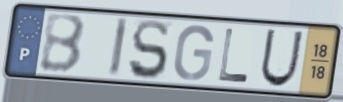B: (38, 13, 88, 76)
G: (171, 23, 215, 83)
I: (107, 15, 131, 80)
L: (216, 26, 251, 85)
S: (127, 18, 171, 82)
U: (258, 27, 306, 89)
